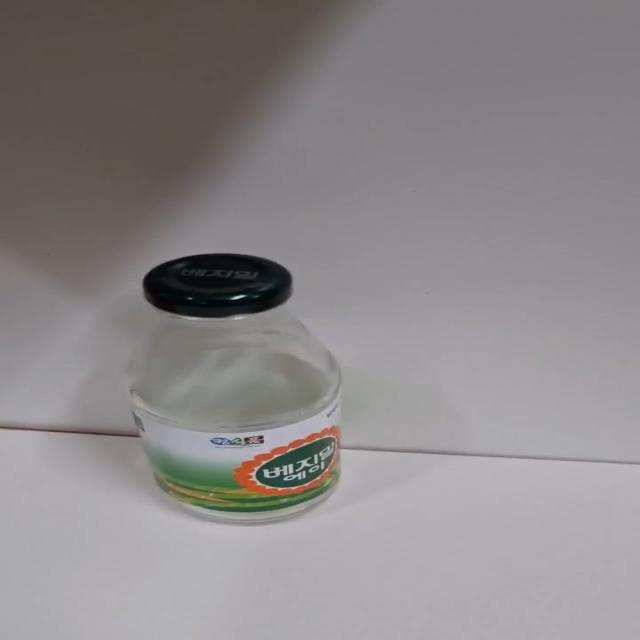Glass: (125, 254, 344, 528)
